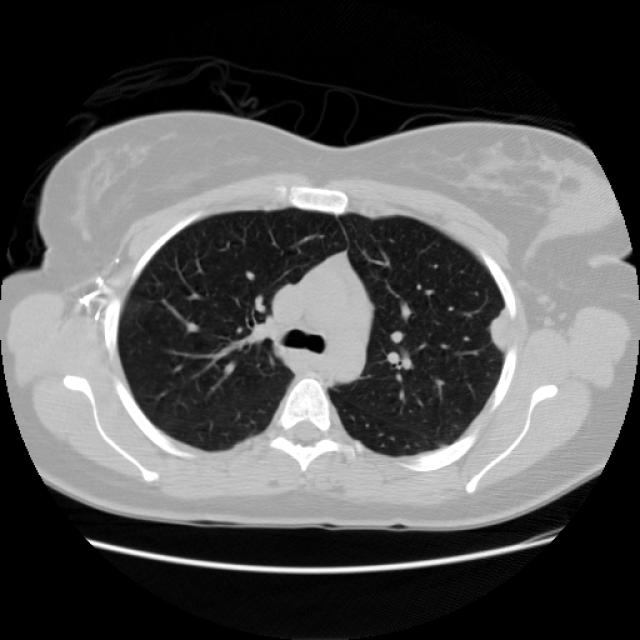nodule: (469, 299, 529, 359)
